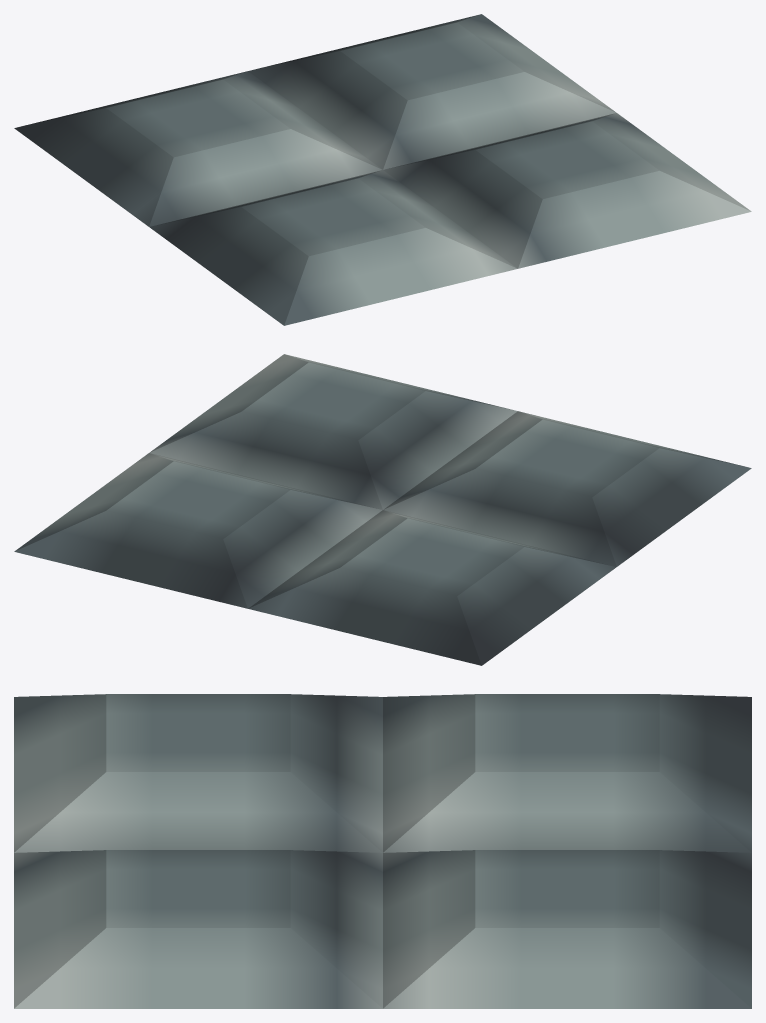
Rendered from floor_2_a.obj.
3 renders of one model, top to bottom at view 1: azimuth 30°, elevation 25°; view 2: azimuth 150°, elevation 25°; view 3: azimuth 270°, elevation 25°, orthographic. The views are drawn at different scales.
Visible parts, largest first — view 1: Default; view 2: Default; view 3: Default.
Boxes of the visible parts, x1,y1,x2,y2 form: Default: [14, 14, 751, 325]; Default: [14, 354, 751, 665]; Default: [14, 694, 751, 1008].
Size of the model in its own units: 1 by 0.0625 by 1.
